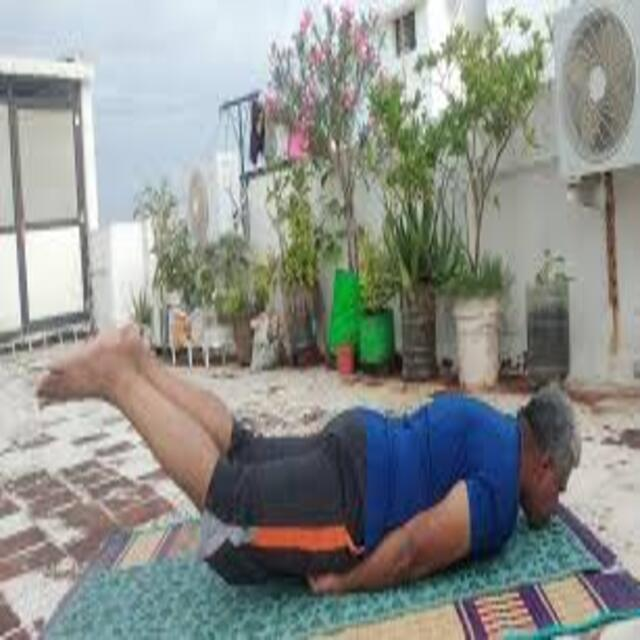Locust_Pose: (38, 325, 583, 587)
